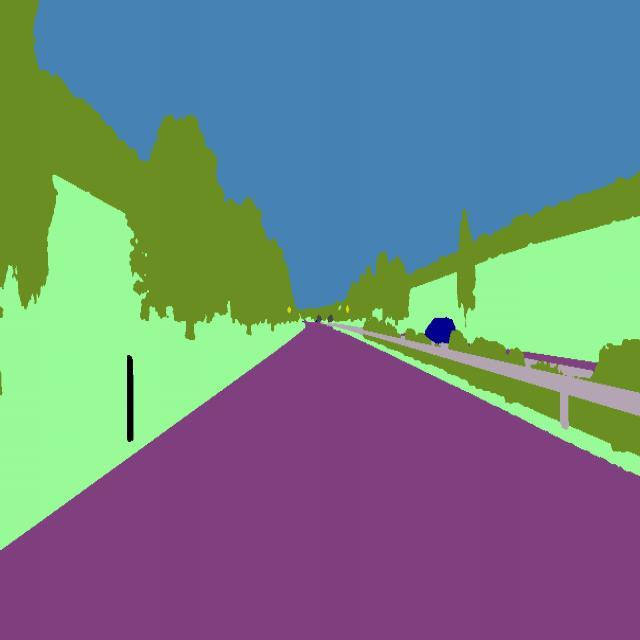safe: (422, 314, 458, 348)
